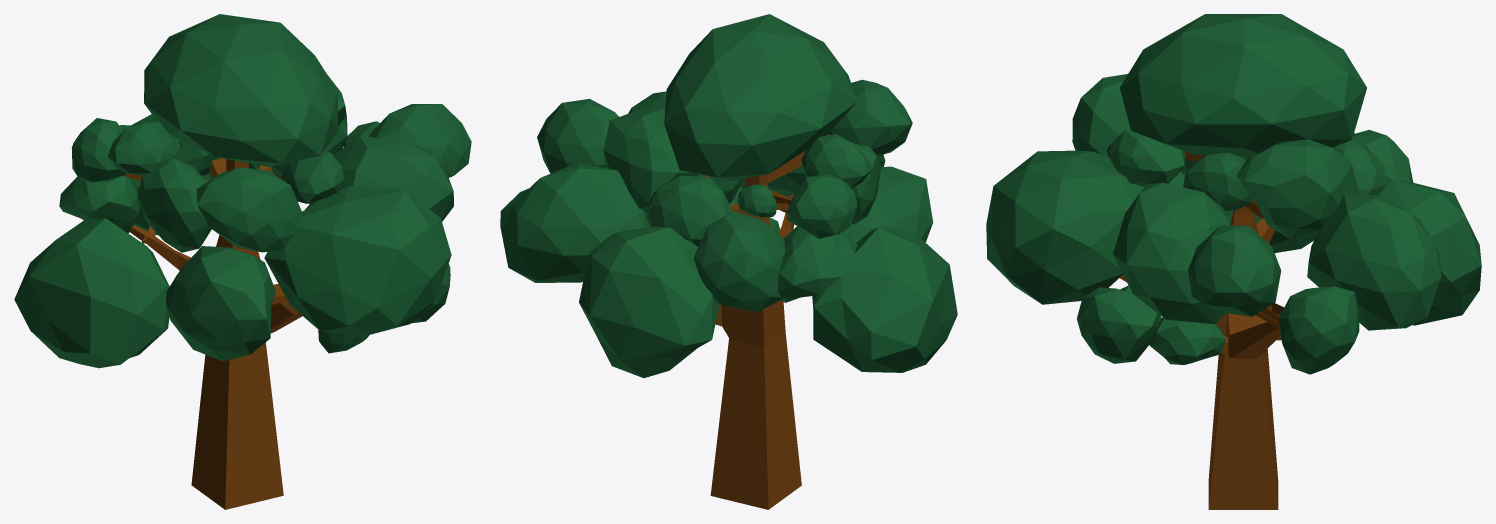
File: tree_large.glb
3 views of the same model, side by side, from view 1: azimuth 30°, elevation 25°; view 2: azimuth 150°, elevation 25°; view 3: azimuth 270°, elevation 25° (orthographic). The views are drawn at different scales.
Parts seen in each view (by area): view 1: Icosphere, Icosphere.004, Icosphere.007, Trunk, Icosphere.008, Icosphere.010, Icosphere.001, Icosphere.021, Icosphere.002, Icosphere.011, Icosphere.012, Icosphere.013 (+4 smaller); view 2: Icosphere, Trunk, Icosphere.007, Icosphere.009, Icosphere.003, Icosphere.006, Icosphere.015, Icosphere.002, Icosphere.011, Icosphere.014, Icosphere.010, Icosphere.008 (+6 smaller); view 3: Icosphere, Icosphere.004, Trunk, Icosphere.003, Icosphere.001, Icosphere.015, Icosphere.002, Icosphere.009, Icosphere.020, Icosphere.017, Icosphere.010, Icosphere.005 (+5 smaller).
Part boxes in pixels (bbox=[...]): Icosphere: bbox=[144, 14, 338, 166]; Icosphere.004: bbox=[264, 186, 451, 334]; Icosphere.007: bbox=[14, 218, 169, 368]; Trunk: bbox=[123, 158, 310, 509]; Icosphere.008: bbox=[166, 246, 275, 361]; Icosphere.010: bbox=[196, 167, 301, 252]; Icosphere.001: bbox=[333, 135, 453, 221]; Icosphere.021: bbox=[138, 158, 211, 252]; Icosphere.002: bbox=[369, 104, 471, 177]; Icosphere.011: bbox=[59, 175, 139, 233]; Icosphere.012: bbox=[107, 122, 180, 175]; Icosphere.013: bbox=[71, 118, 126, 182]; Icosphere: bbox=[664, 14, 857, 180]; Trunk: bbox=[702, 134, 828, 509]; Icosphere.007: bbox=[812, 227, 957, 372]; Icosphere.009: bbox=[579, 227, 718, 378]; Icosphere.003: bbox=[501, 162, 650, 282]; Icosphere.006: bbox=[694, 211, 785, 311]; Icosphere.015: bbox=[603, 107, 698, 213]; Icosphere.002: bbox=[537, 98, 618, 173]; Icosphere.011: bbox=[778, 226, 857, 302]; Icosphere.014: bbox=[646, 175, 732, 246]; Icosphere.010: bbox=[828, 79, 912, 156]; Icosphere.008: bbox=[845, 166, 933, 242]; Icosphere: bbox=[1119, 14, 1366, 159]; Icosphere.004: bbox=[986, 150, 1143, 304]; Trunk: bbox=[1120, 150, 1284, 509]; Icosphere.003: bbox=[1307, 194, 1441, 330]; Icosphere.001: bbox=[1113, 182, 1230, 324]; Icosphere.015: bbox=[1236, 139, 1358, 239]; Icosphere.002: bbox=[1188, 225, 1281, 316]; Icosphere.009: bbox=[1379, 179, 1481, 325]; Icosphere.020: bbox=[1278, 286, 1359, 374]; Icosphere.017: bbox=[1077, 287, 1159, 363]; Icosphere.010: bbox=[1072, 74, 1130, 157]; Icosphere.005: bbox=[1107, 129, 1184, 186].
Size of the model in its own units: 19.56 by 20.94 by 19.65.
